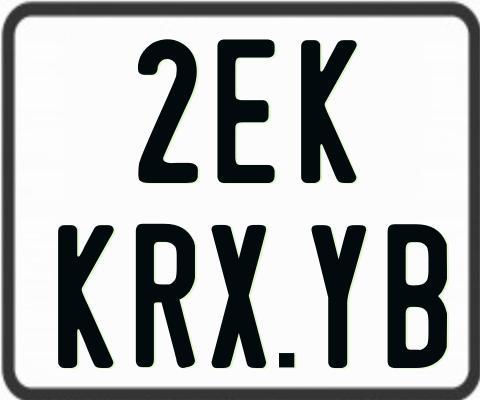2: (138, 39, 199, 189)
B: (387, 223, 450, 368)
E: (217, 36, 276, 180)
K: (57, 224, 117, 367), (299, 37, 356, 185)
R: (134, 223, 199, 373)
X: (210, 223, 264, 368)
Y: (310, 222, 367, 369)
